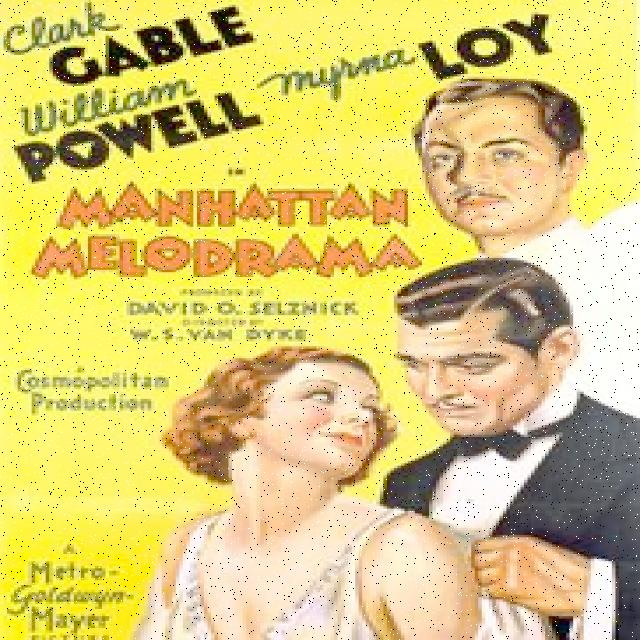movie-judul: (30, 180, 422, 281)
picture: (137, 258, 640, 640), (411, 79, 640, 258)
